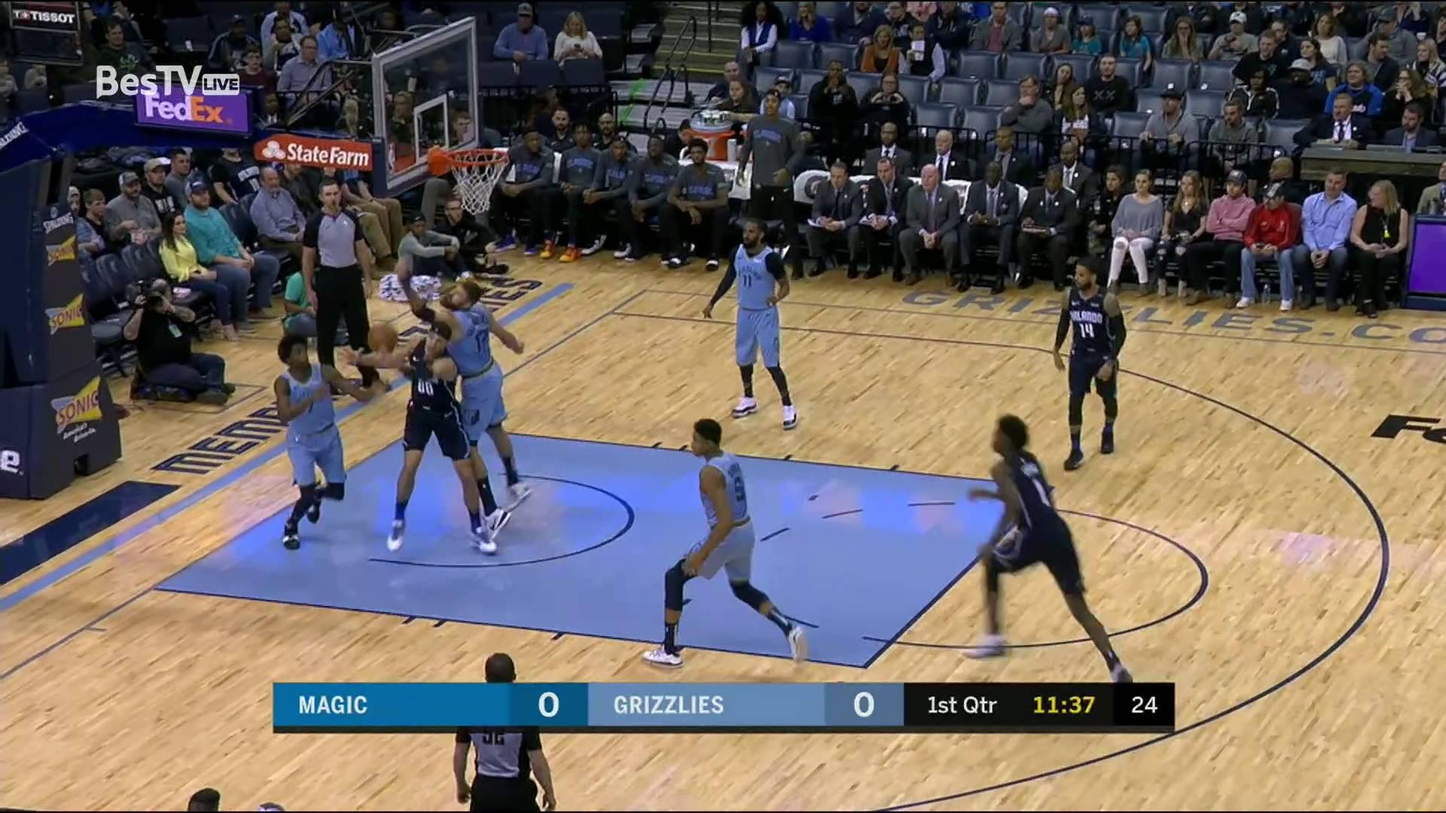basketball: (363, 321, 397, 354)
